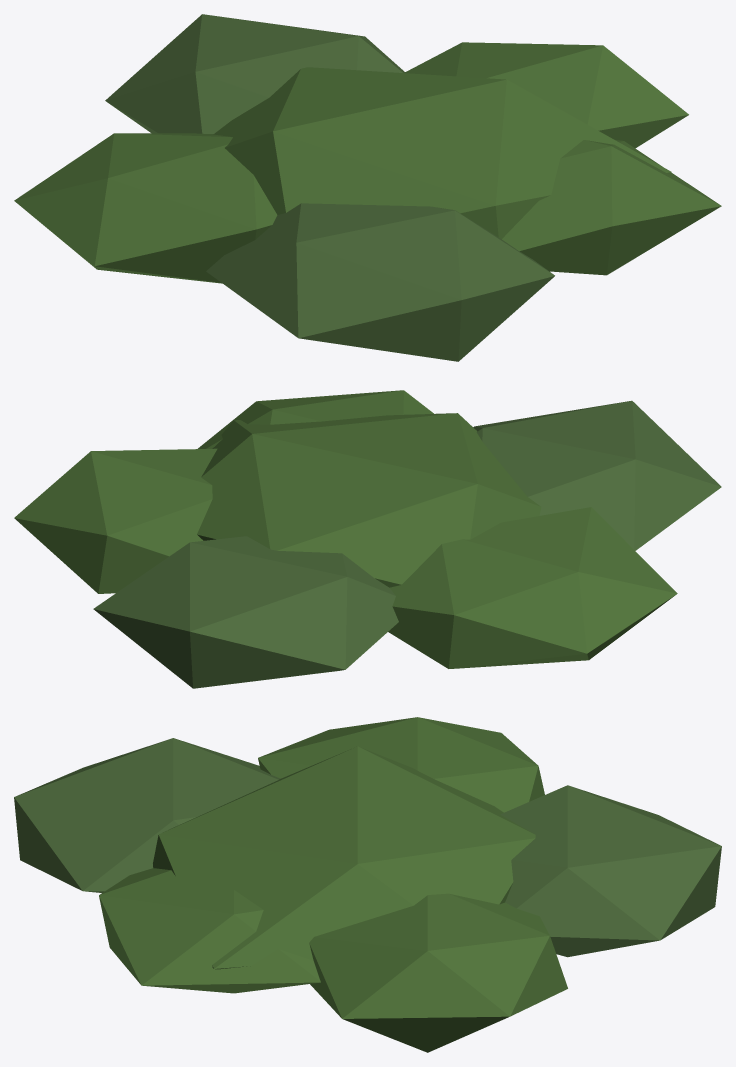
File: land-forest-14.glb
3 views of the same model, one above another, from view 1: azimuth 30°, elevation 25°; view 2: azimuth 150°, elevation 25°; view 3: azimuth 270°, elevation 25° (orthographic). The views are drawn at different scales.
Parts seen in each view (by area): view 1: land.forest.14; view 2: land.forest.14; view 3: land.forest.14.
Part boxes in pixels (x1,y1,x2,y2): land.forest.14: (14,14,721,361); land.forest.14: (14,390,721,688); land.forest.14: (14,717,721,1052).
Size of the model in its own units: 2.47 by 0.5103 by 2.55.
